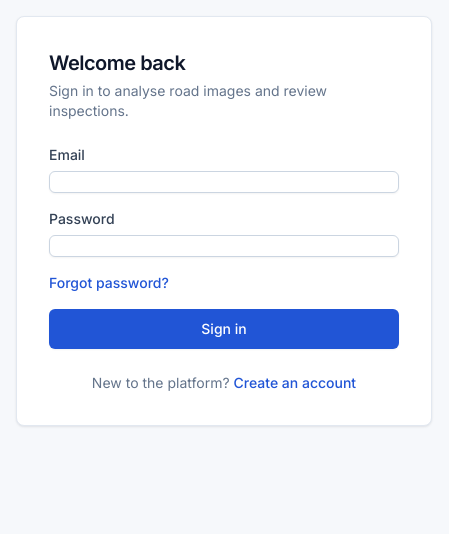
Test: LoginPage › shows an error alert when sign-in fails
Step 1. Type "user@example.com" into the field labelled "Email" → [224, 182], box [49,171,399,193]
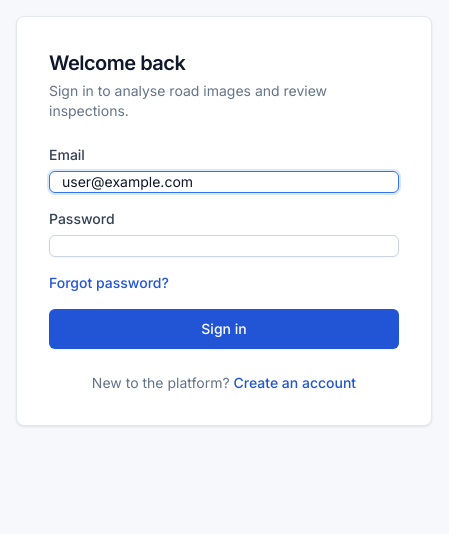
Step 2. Type "wrongpass1" into the password field labelled "Password" → [224, 246], box [49,235,399,257]
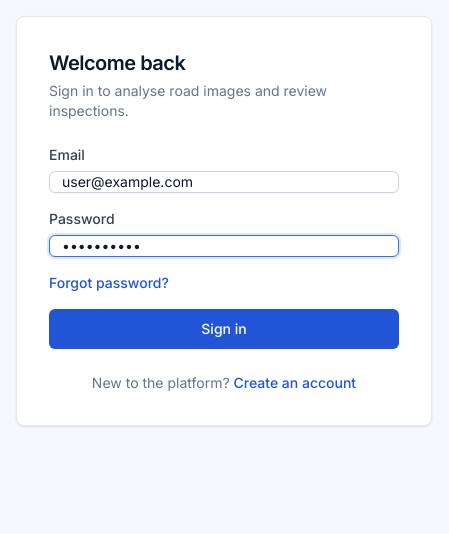
Step 3. Click the button "Sign in" → [224, 329], box [49,309,399,349]
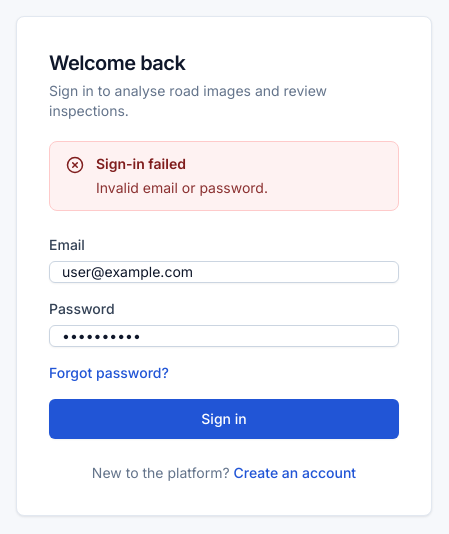
Result: the message shows "Sign-in failed" at [96,155,186,172]
Result: the message shows "Invalid email or password" at [96,179,268,196]
